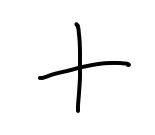plus: (38, 22, 131, 113)
